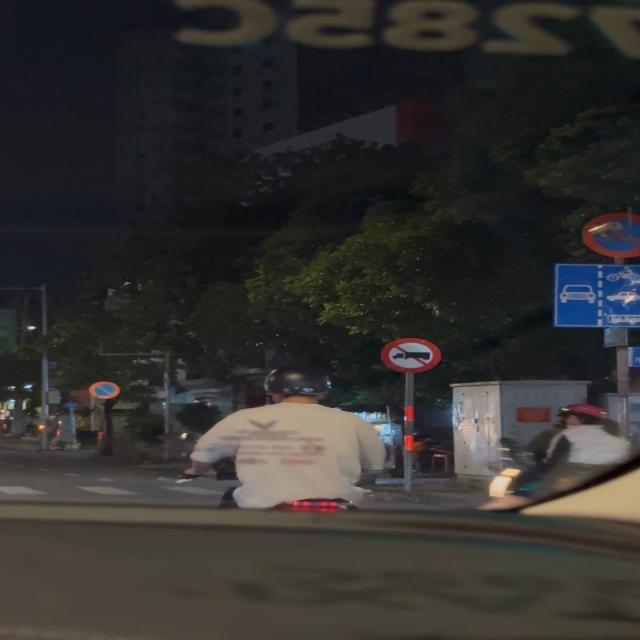Bien bao cam do xe: (88, 379, 126, 400)
Bien bao cam xe so-mi ro-mooc: (376, 336, 445, 375)
